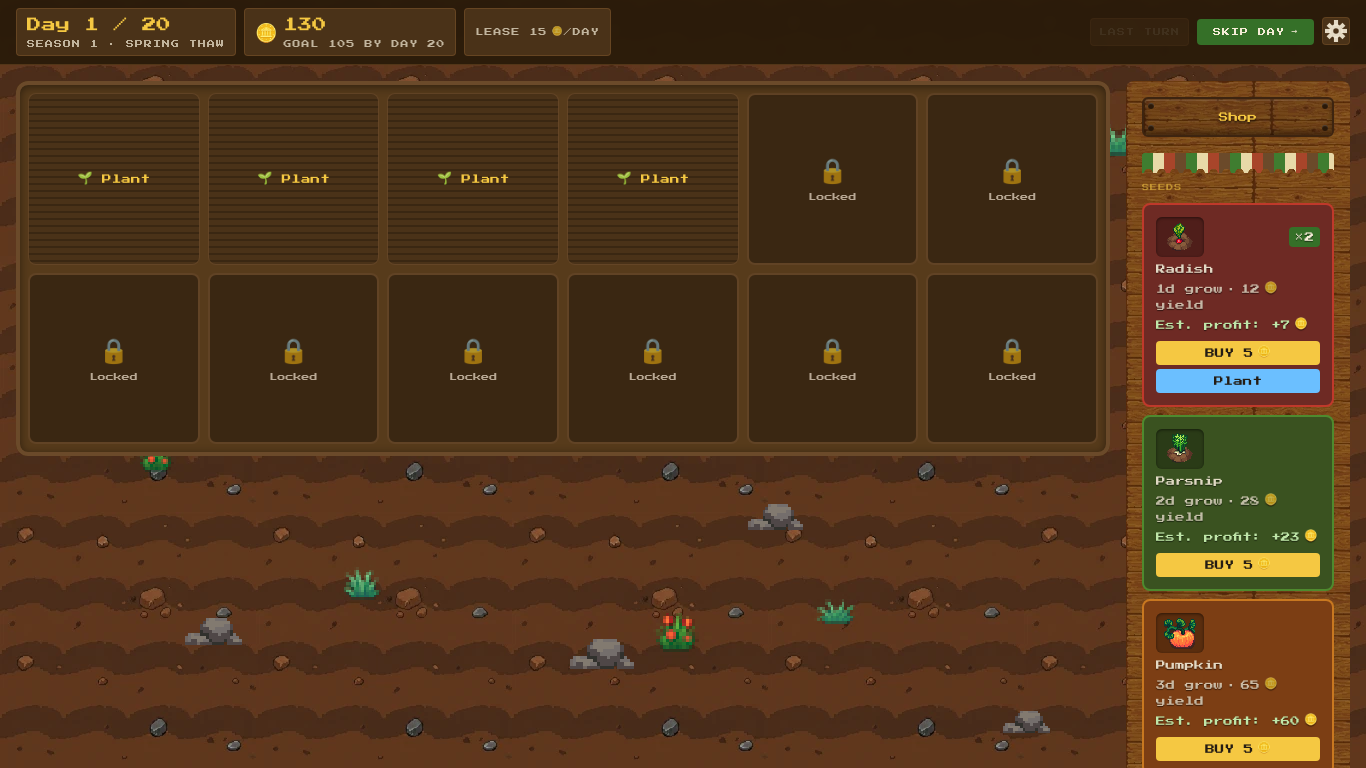
Test: GameBoard — empty-plot tap feedback (017 FR-014) › prompts seed selection when seeds are owned but none selected
Click the button with aria-label "empty plot 1": point(114, 179) x1=28 y1=93 x2=200 y2=265
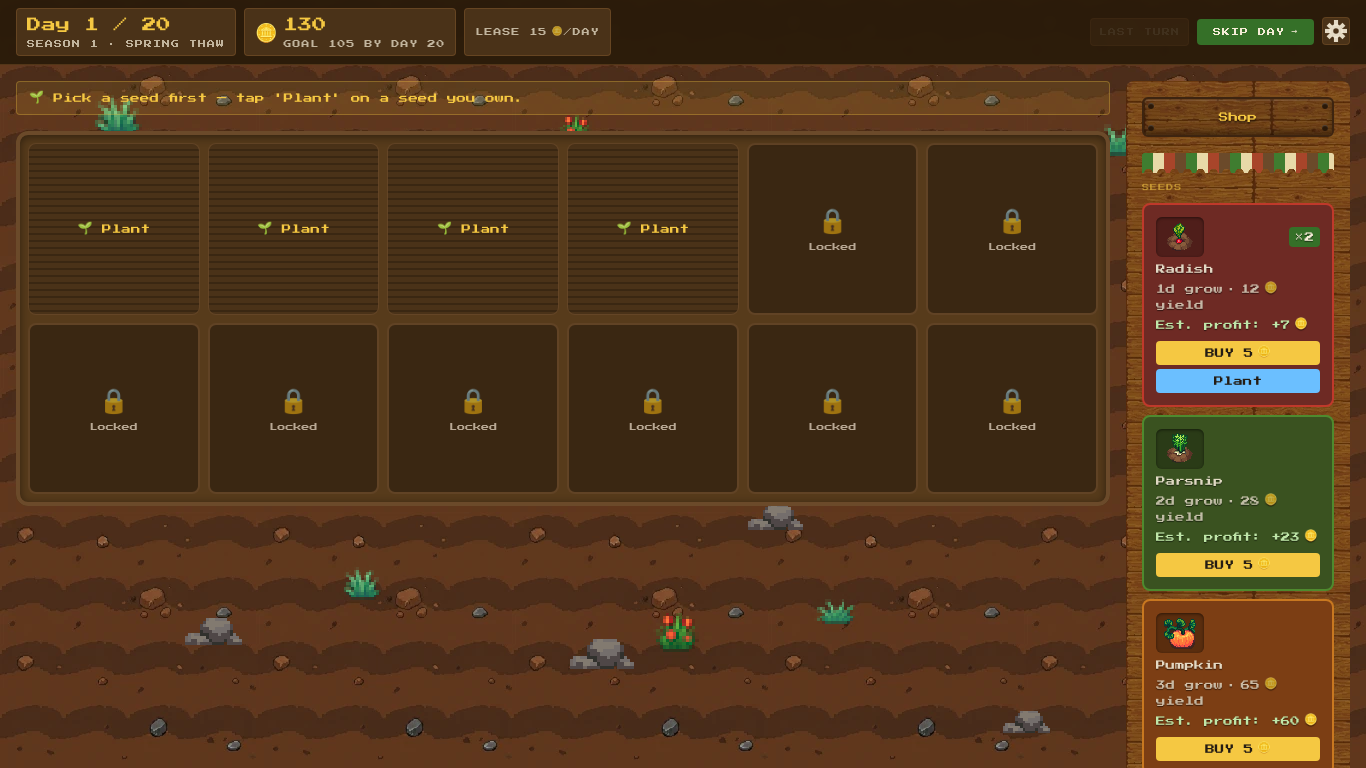
Expected: the message shows "Pick a seed first", x1=54 y1=93 x2=524 y2=103
